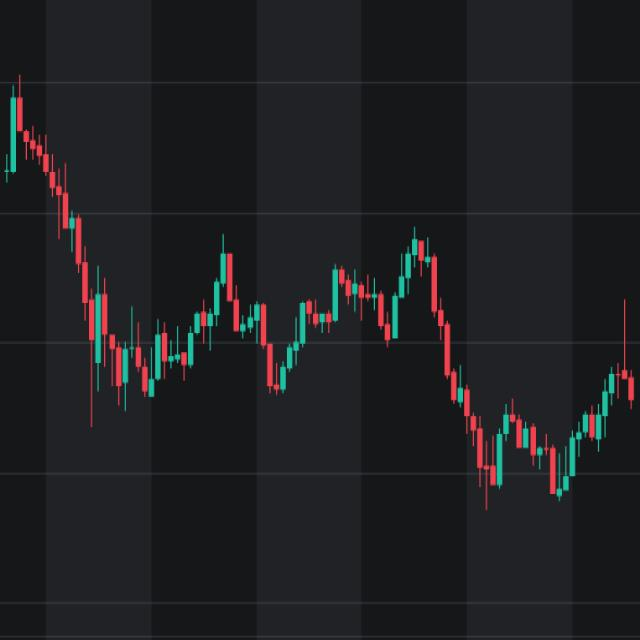Resistance-Emerging: (61, 218, 457, 404), (440, 356, 640, 515)
Support-breakout: (392, 216, 574, 503)
